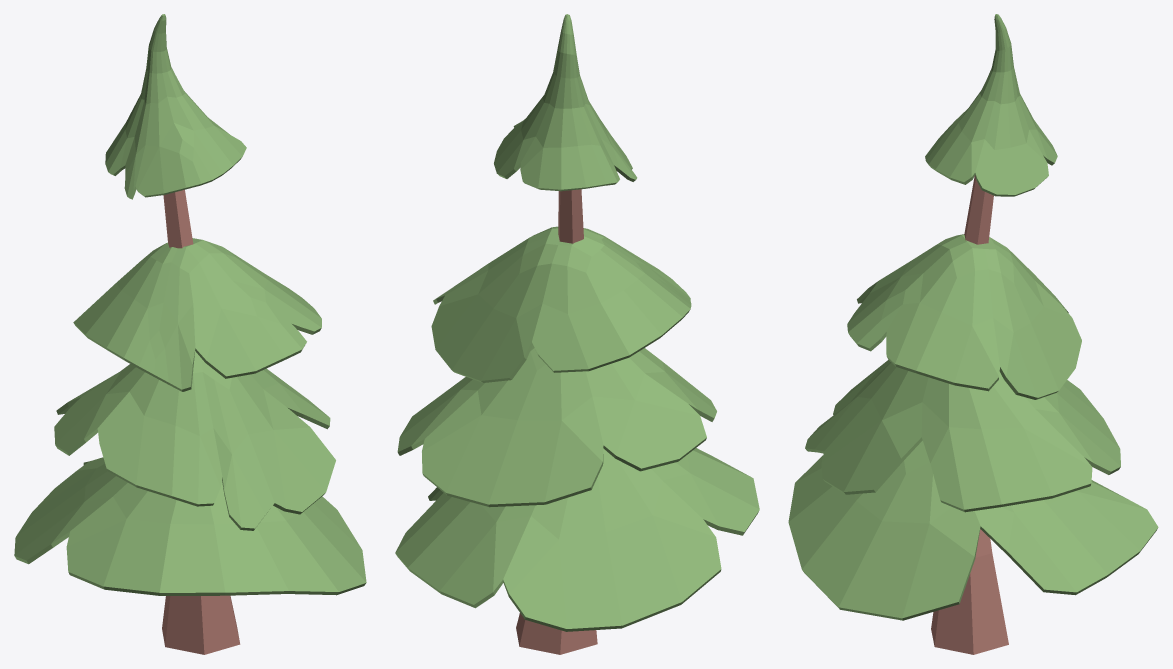
File: pine_2.glb
3 views of the same model, side by side, from view 1: azimuth 30°, elevation 25°; view 2: azimuth 150°, elevation 25°; view 3: azimuth 270°, elevation 25° (orthographic). The views are drawn at different scales.
Parts seen in each view (by area): view 1: PineTree_2; view 2: PineTree_2; view 3: PineTree_2.
Part boxes in pixels (left/top/right/bottom): PineTree_2: left=14, top=14, right=366, bottom=654; PineTree_2: left=395, top=14, right=759, bottom=654; PineTree_2: left=788, top=14, right=1158, bottom=654.
Size of the model in its own units: 1.8 by 3.56 by 1.96.
